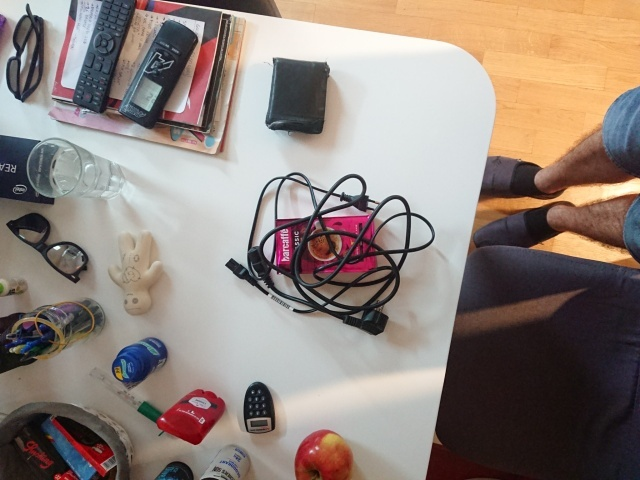Barcaffe Classic Original 225g: (273, 213, 380, 276)
